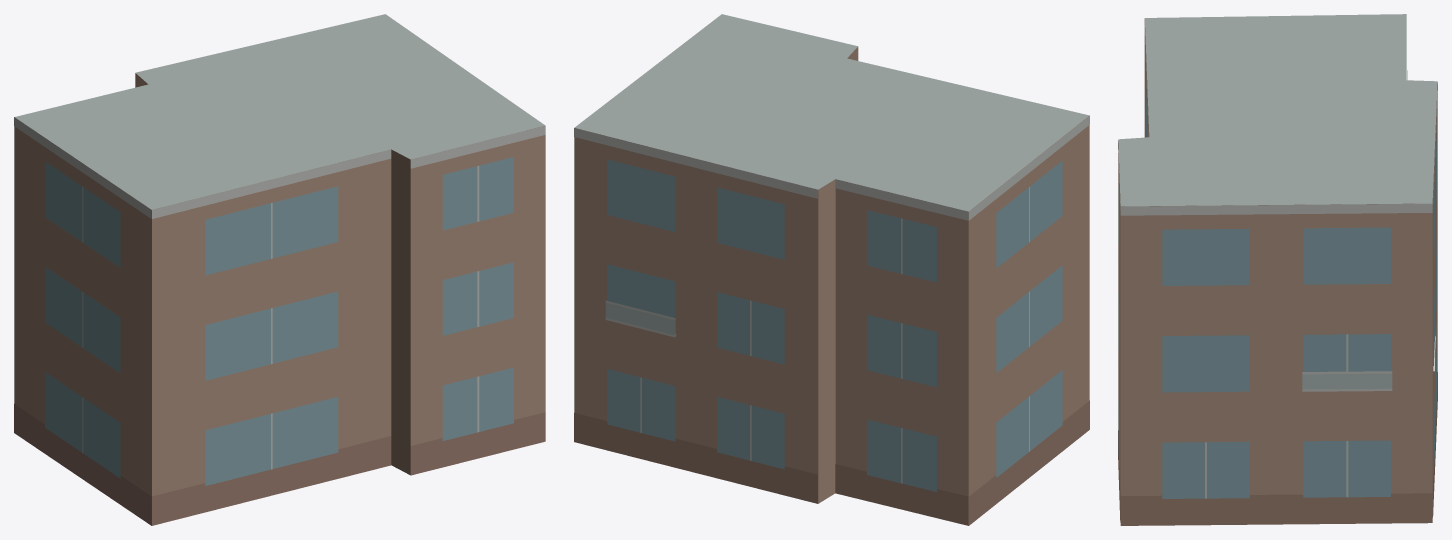
File: survey-upis-32985763.glb
3 renders of one model, left to right at view 1: azimuth 30°, elevation 25°; view 2: azimuth 150°, elevation 25°; view 3: azimuth 270°, elevation 25°, orthographic.
Visible parts, largest first — view 1: survey-upis-32985763.tmp; view 2: survey-upis-32985763.tmp; view 3: survey-upis-32985763.tmp.
Boxes of the visible parts, box(x1,y1,x2,y2) form: survey-upis-32985763.tmp: box(14, 14, 545, 525); survey-upis-32985763.tmp: box(574, 14, 1089, 525); survey-upis-32985763.tmp: box(1118, 14, 1437, 525).
Size of the model in its own units: 10.79 by 8.35 by 7.57.
